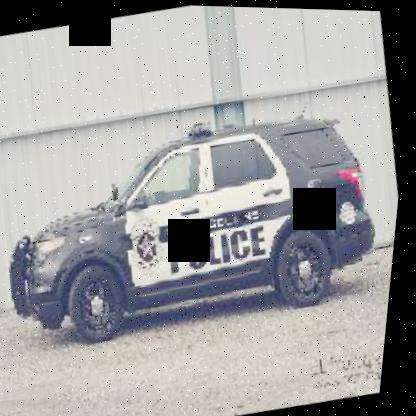emergency: (0, 73, 409, 411)
